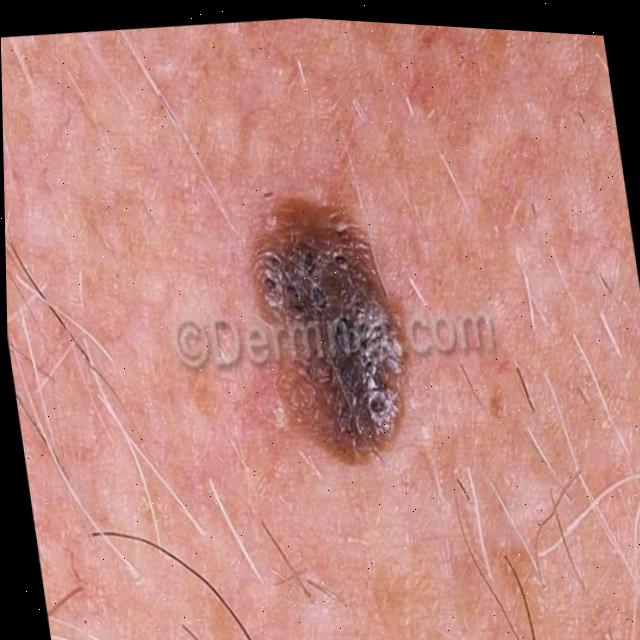Eczema: (247, 191, 411, 480)
